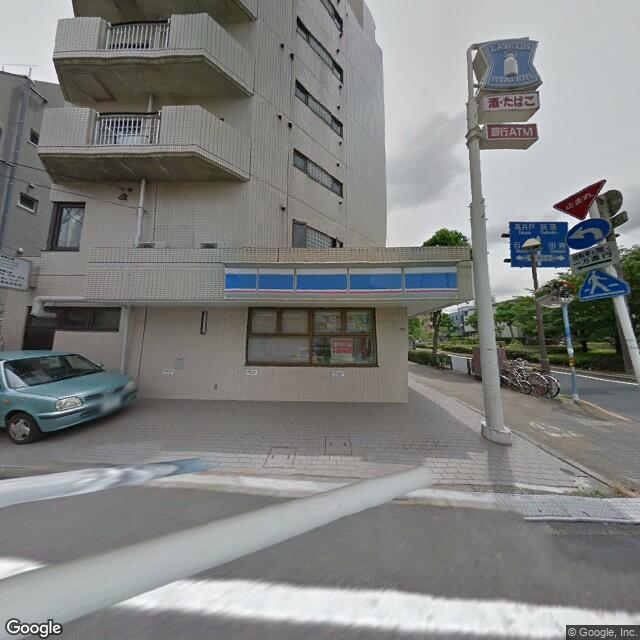lawson: (221, 251, 467, 301), (474, 33, 546, 96)
